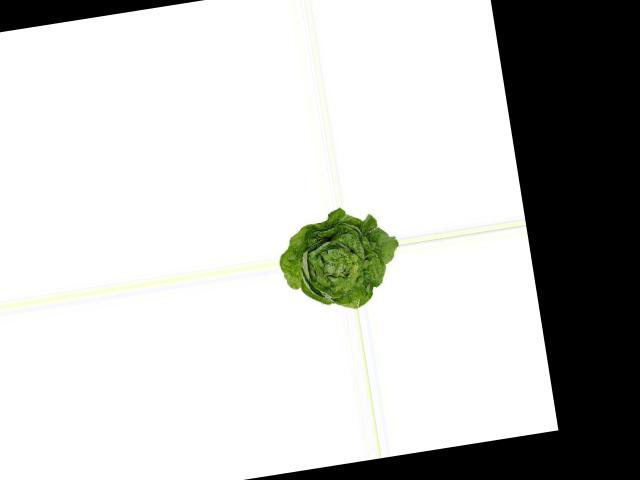lettuce: (271, 200, 403, 318)
